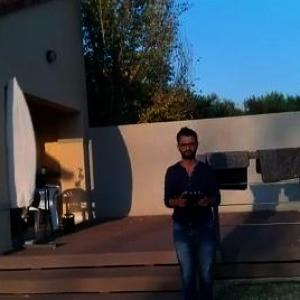follow: (158, 121, 227, 299)
